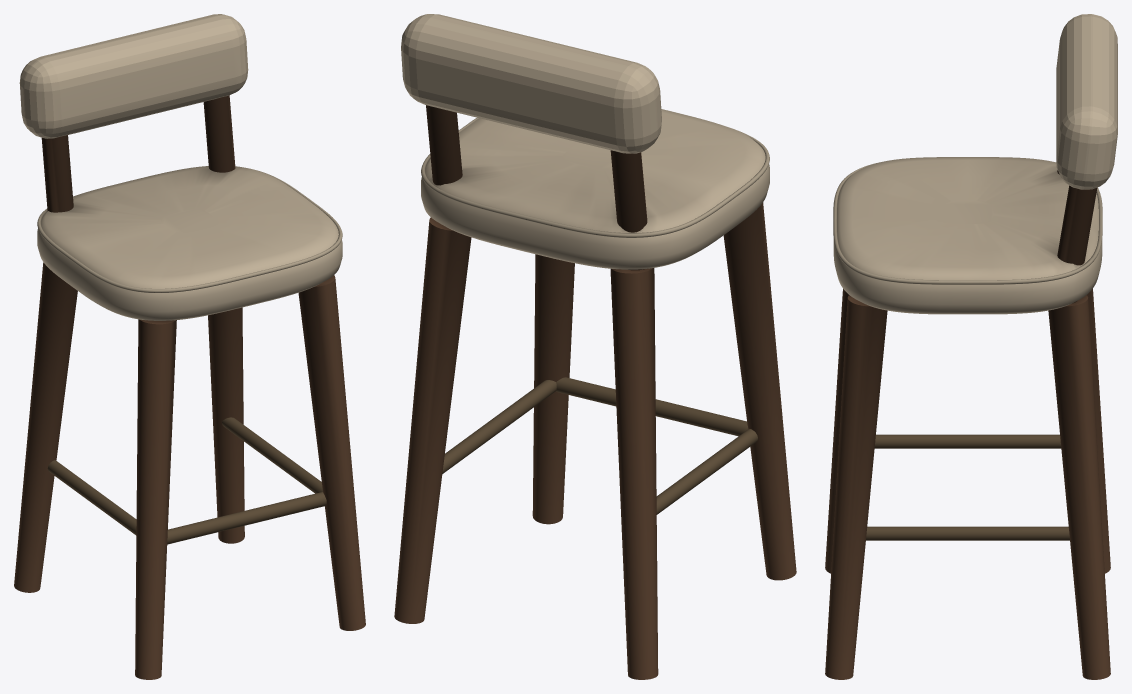
File: walnut-stool.glb
3 renders of one model, left to right at view 1: azimuth 30°, elevation 25°; view 2: azimuth 150°, elevation 25°; view 3: azimuth 270°, elevation 25°, orthographic. The views are drawn at different scales.
Parts seen in each view (by area): view 1: walnut-stool; view 2: walnut-stool; view 3: walnut-stool.
Boxes of the visible parts, <box> form: walnut-stool: <box>14,14,365,679</box>; walnut-stool: <box>394,14,796,679</box>; walnut-stool: <box>825,14,1117,679</box>.
Size of the model in its own units: 0.4606 by 0.968 by 0.4573.
